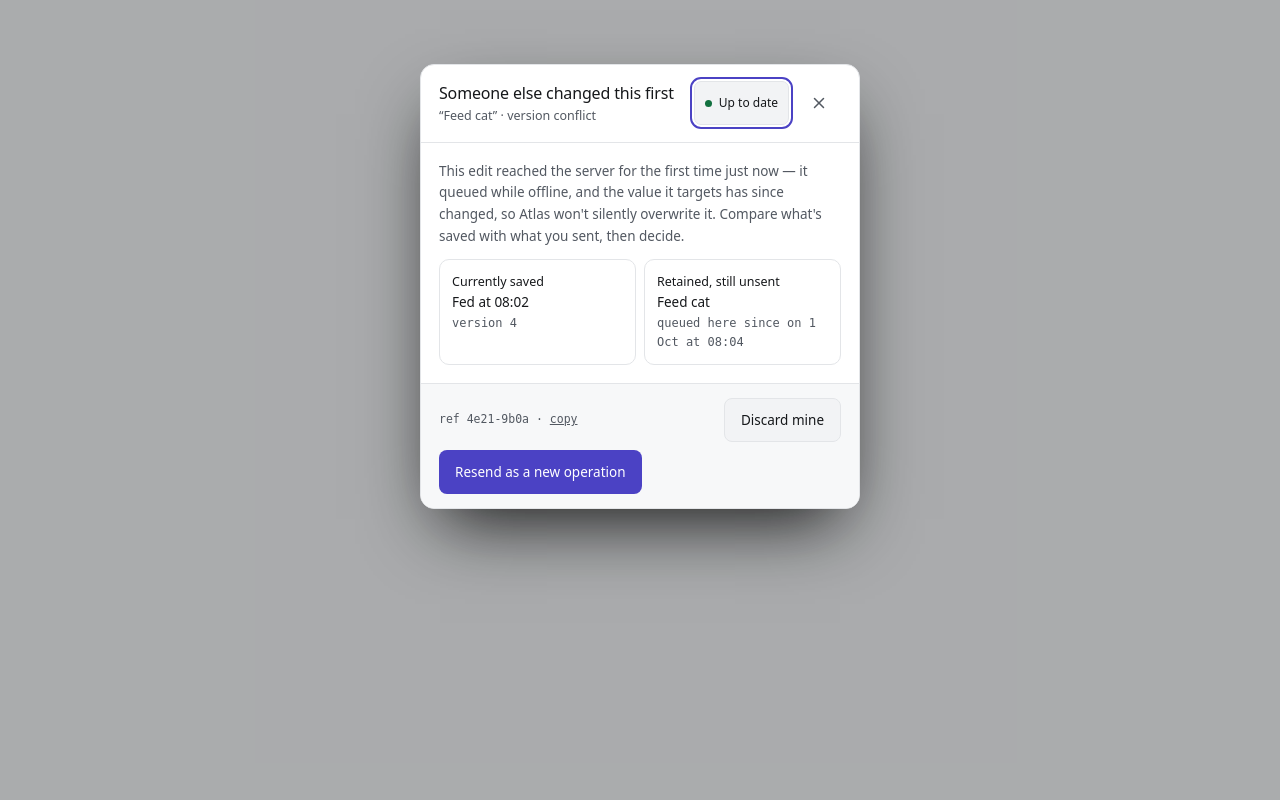
Scenario: U-5 to U-8 WF-QUEUE-02, the generic item-detail dialog › U-6 a registered rebuild offers 'Resend as a new operation', which asks the data layer to save it as new ON THE VALUE THE READ RETURNED
Click the button "Resend as a new operation" at [540, 472], box [439, 450, 642, 494]
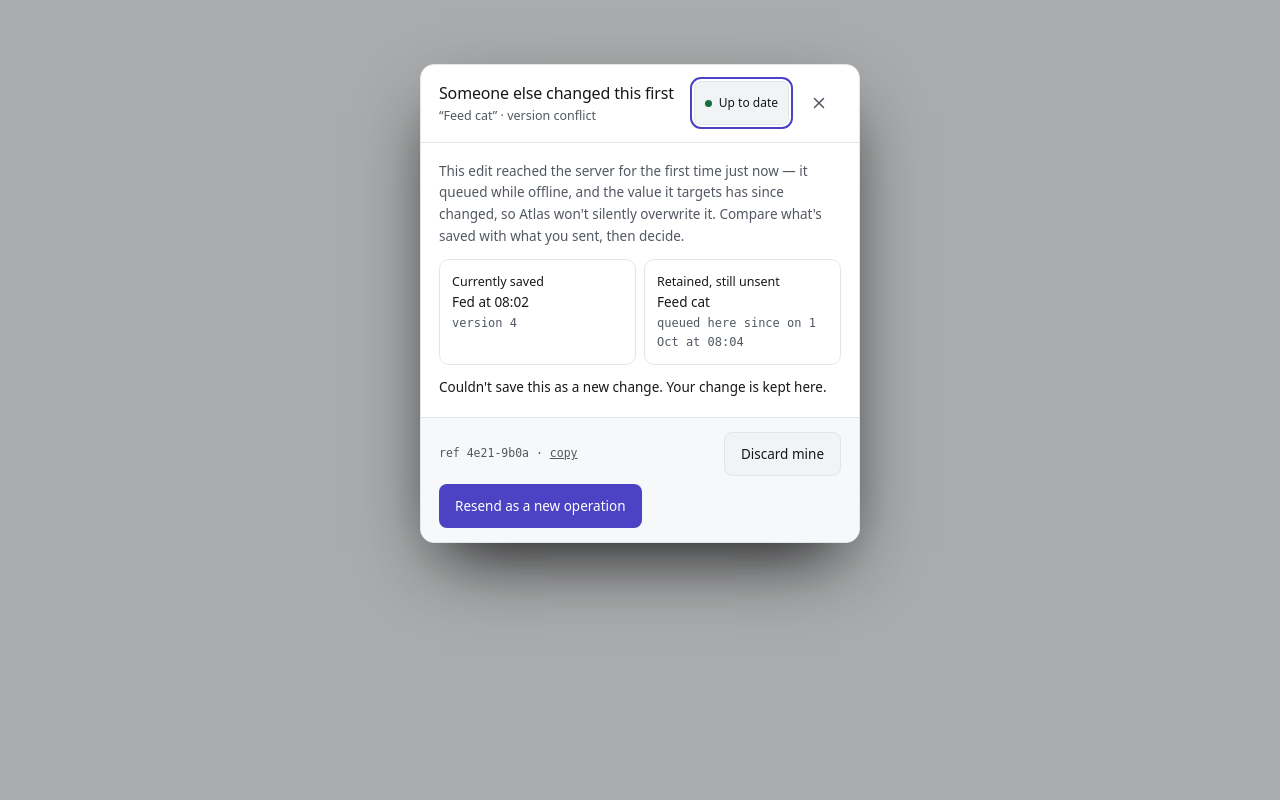
Result: the text "Couldn't save this as a new change. Your change is kept here." is shown at [439, 377, 841, 399]
